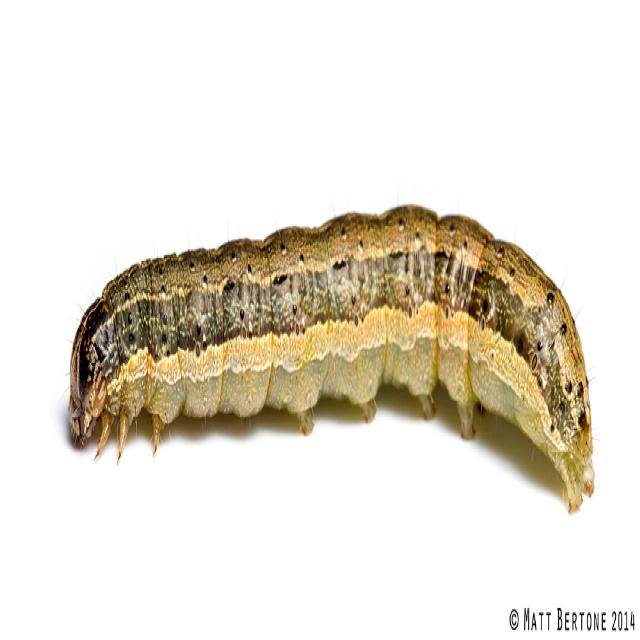Fall-Armyworm: (65, 181, 603, 531)
